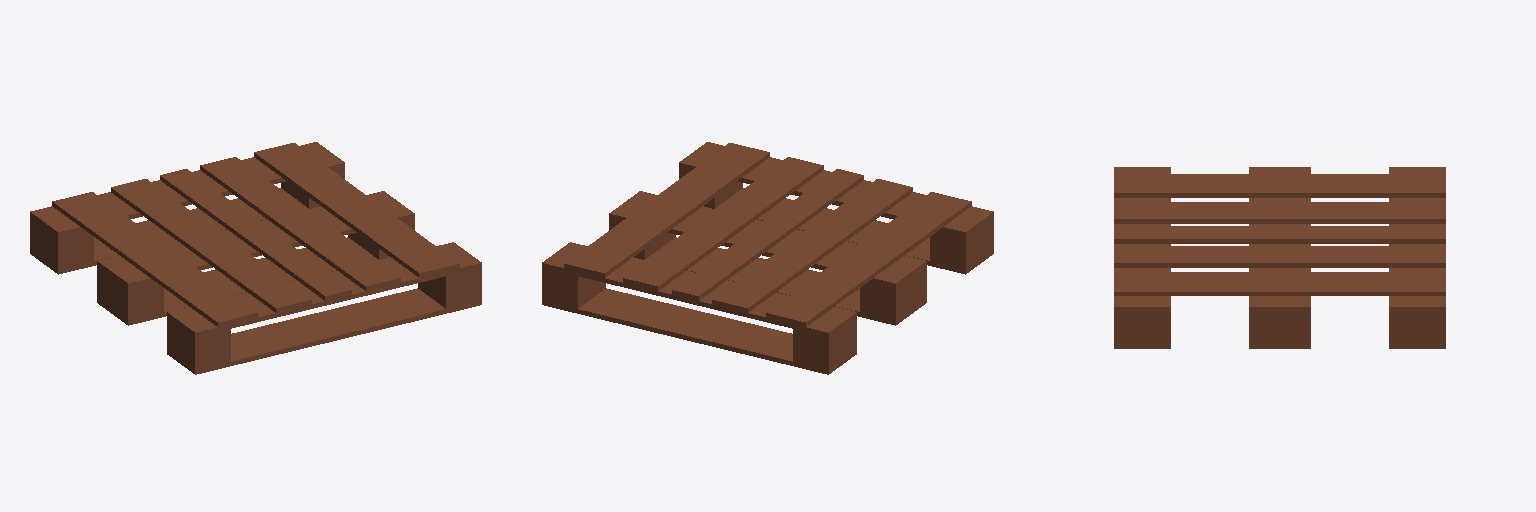
The picture shows the model from 3 angles: view 1: azimuth 30°, elevation 25°; view 2: azimuth 150°, elevation 25°; view 3: azimuth 270°, elevation 25°; orthographic projection.
Visible parts, largest first — view 1: object 1; view 2: object 1; view 3: object 1.
Part boxes in pixels (x1,y1,x2,y2): object 1: (30,142,481,374); object 1: (542,142,993,374); object 1: (1114,167,1445,348).
Bounding box in the file's own units: 6.4 × 1 × 6.4.
Materials: 1 (1 with a texture image).